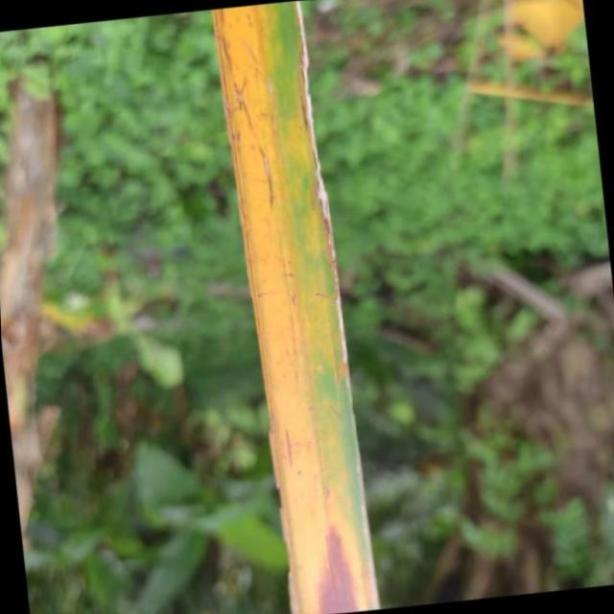Megnesium: (210, 0, 385, 614)
